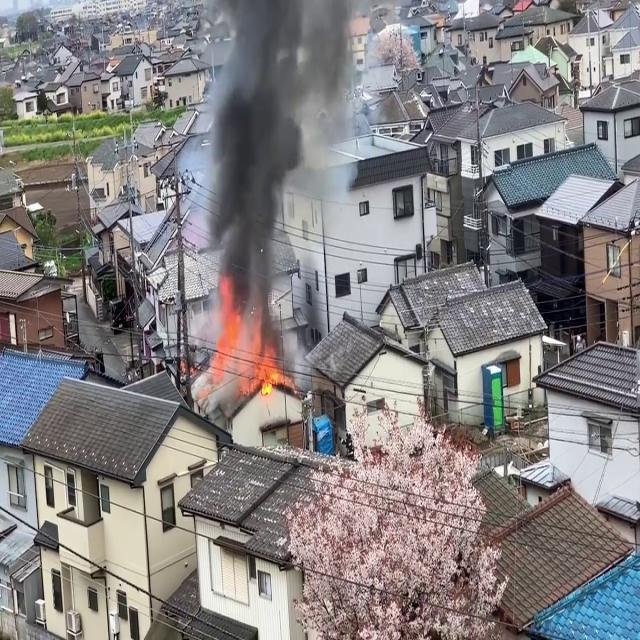Fire: (201, 297, 291, 397)
Smoke: (196, 0, 356, 345)
